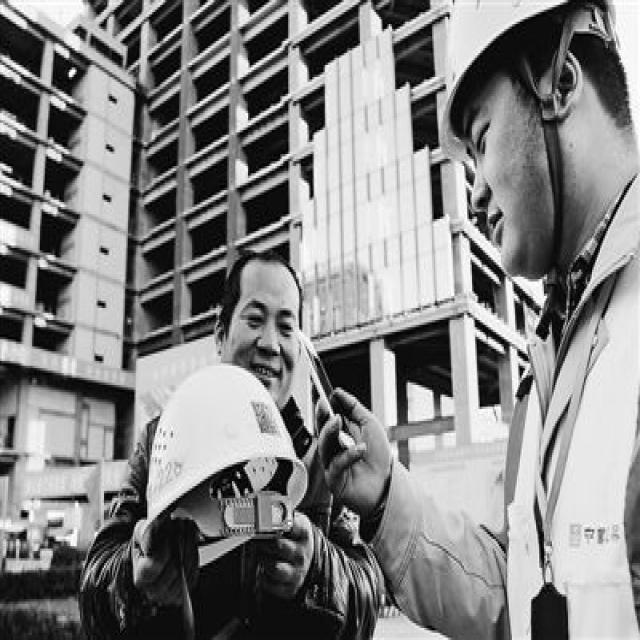Reflective-Jacket: (504, 276, 640, 640)
Safety-Helmet: (138, 358, 322, 578), (428, 0, 635, 103)
